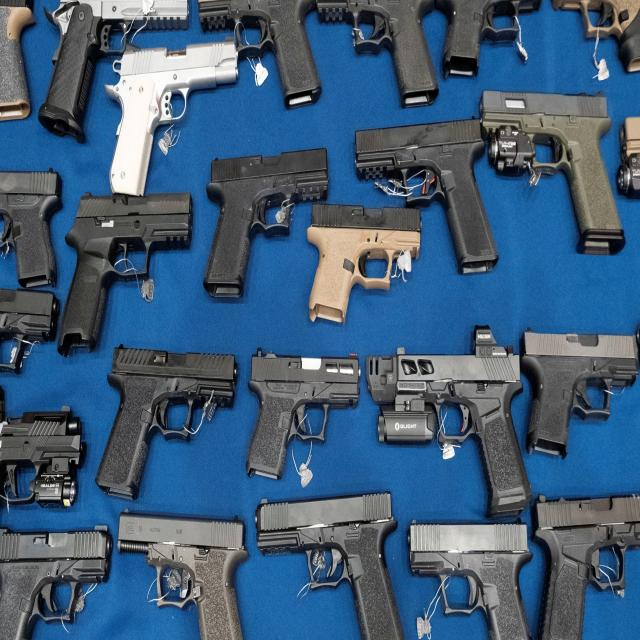weapon: (350, 84, 511, 298), (362, 342, 540, 521), (473, 61, 623, 264), (66, 171, 202, 359), (194, 133, 334, 308), (250, 492, 413, 640), (102, 326, 238, 500), (104, 493, 256, 640), (109, 35, 238, 202), (513, 319, 640, 477), (245, 334, 366, 494), (408, 508, 534, 640), (306, 197, 423, 336)
